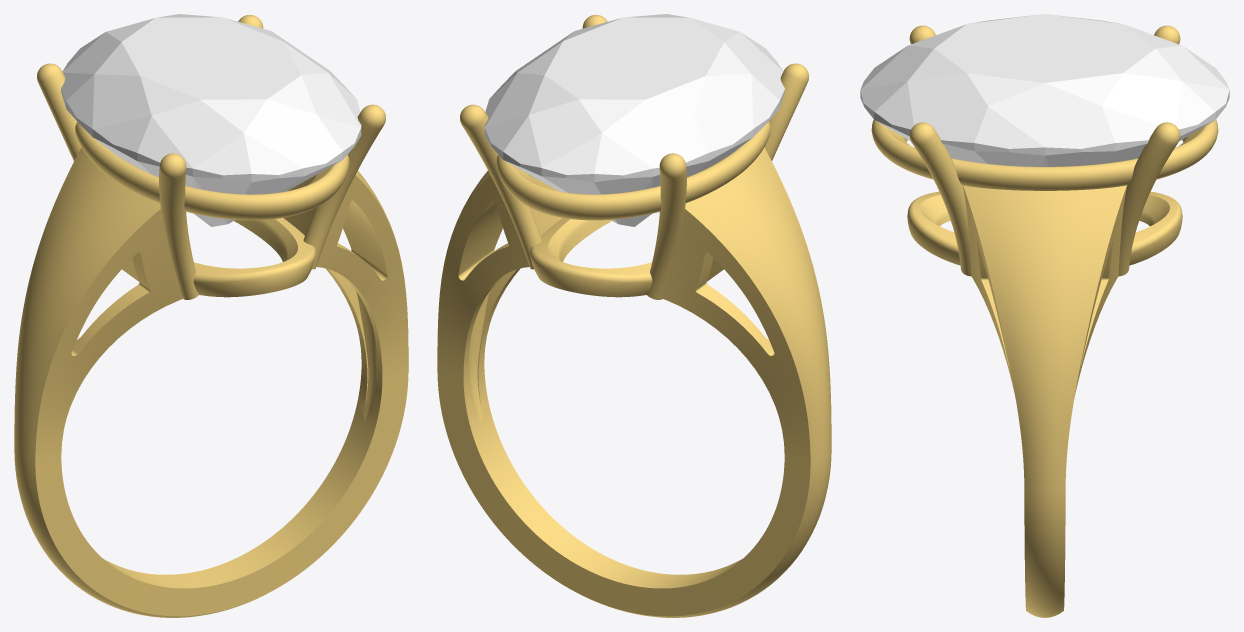
File: AthenaYGprongs_webgi.glb
3 views of the same model, side by side, from view 1: azimuth 30°, elevation 25°; view 2: azimuth 150°, elevation 25°; view 3: azimuth 270°, elevation 25° (orthographic).
Visible parts, largest first — view 1: Athena_YG_prongs_for_3d_model, Athena_citrine_for_3d_model; view 2: Athena_YG_prongs_for_3d_model, Athena_citrine_for_3d_model; view 3: Athena_YG_prongs_for_3d_model, Athena_citrine_for_3d_model.
Part boxes in pixels (x1,y1,x2,y2): Athena_YG_prongs_for_3d_model: [14, 14, 408, 617]; Athena_citrine_for_3d_model: [61, 14, 361, 226]; Athena_YG_prongs_for_3d_model: [437, 14, 831, 617]; Athena_citrine_for_3d_model: [484, 14, 784, 226]; Athena_YG_prongs_for_3d_model: [871, 25, 1218, 617]; Athena_citrine_for_3d_model: [860, 14, 1229, 166].
Size of the model in its own units: 2.12 by 2.9 by 1.77.
